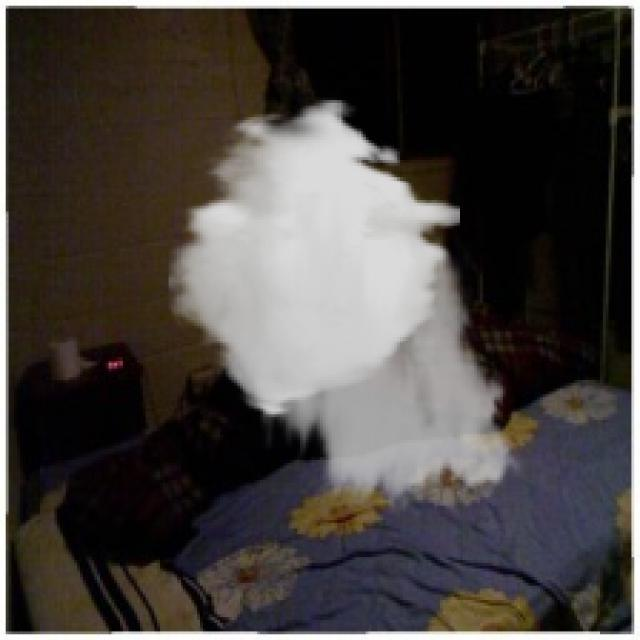Smoke: (168, 97, 528, 514)
